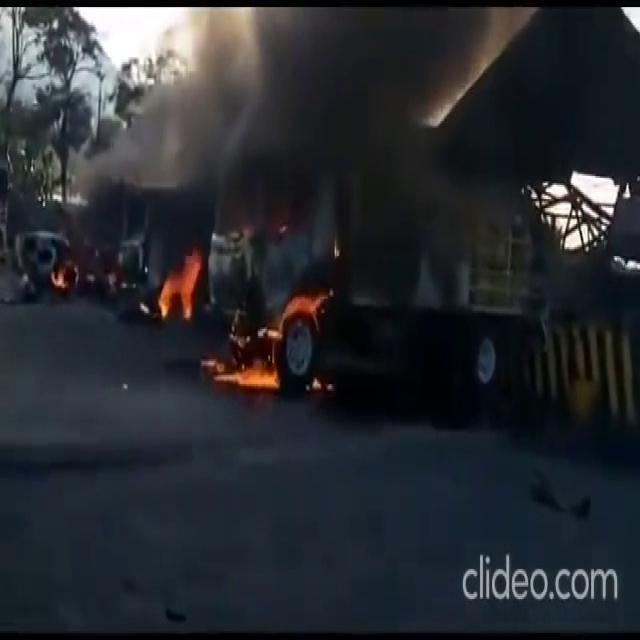Fire: (213, 264, 348, 414), (150, 224, 205, 322), (39, 232, 120, 292)
Smoke: (75, 14, 492, 167)
